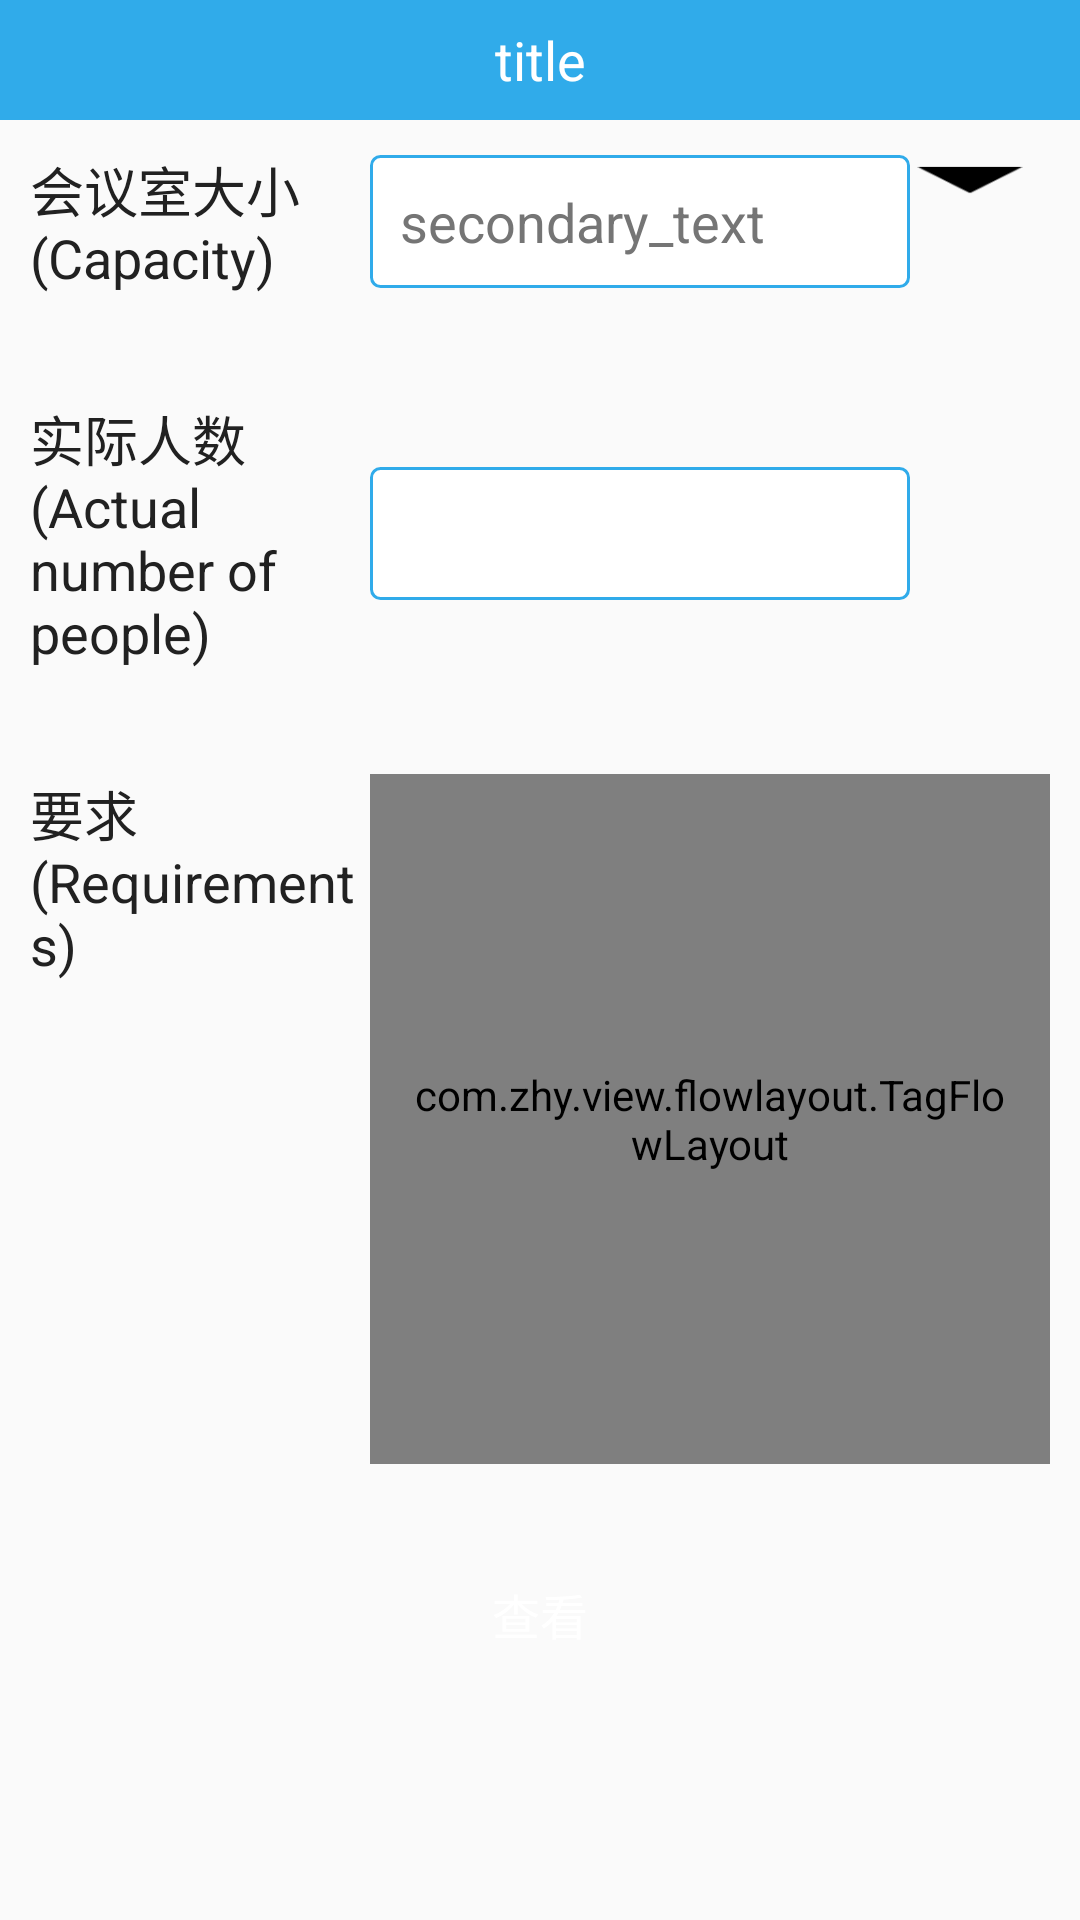

Locate icon controls on the screen. Image size 1080px x 1920px, boxes as BBox(x1, y1, x2, y2).
arrow down: BBox(917, 166, 1023, 193)
